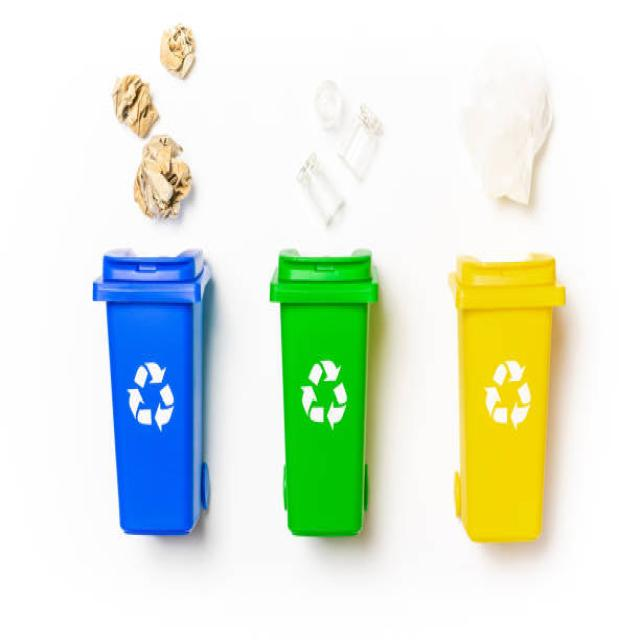glass: (290, 76, 380, 236)
paper: (110, 15, 201, 212)
plastic: (459, 47, 538, 224)
